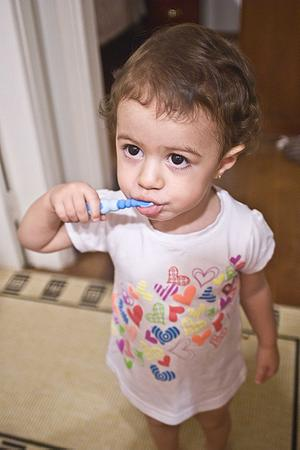person: (16, 20, 279, 447)
